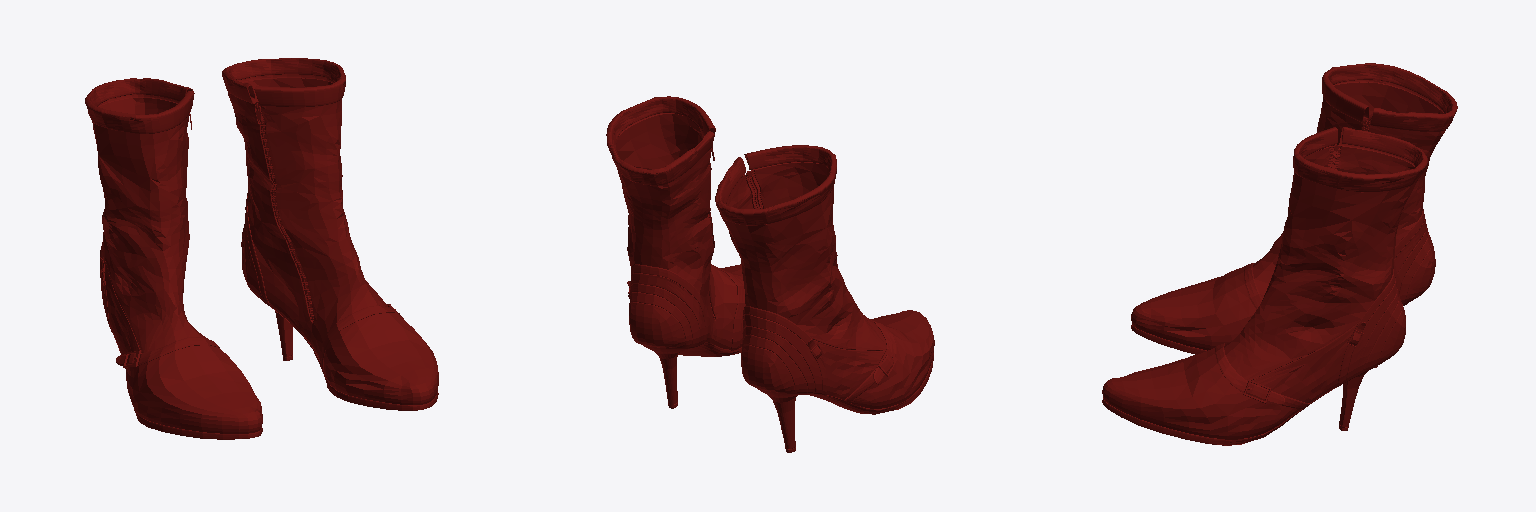
Rendered from gaotong1.obj.
The picture shows the model from 3 angles: view 1: azimuth 30°, elevation 25°; view 2: azimuth 150°, elevation 25°; view 3: azimuth 270°, elevation 25°; orthographic projection.
Visible parts, largest first — view 1: file.001; view 2: file.001; view 3: file.001.
Part boxes in pixels (x1,y1,x2,y2): file.001: (85,58,438,439); file.001: (606,96,934,452); file.001: (1102,63,1457,445).
Size of the model in its own units: 3.4 by 3.58 by 3.98.